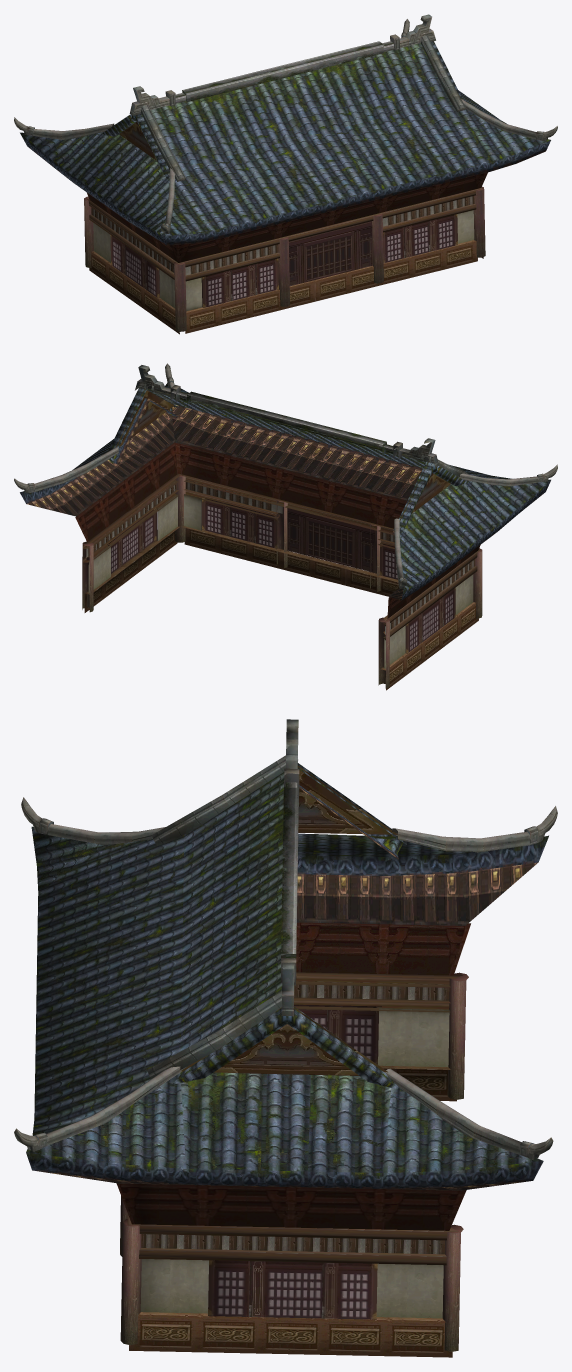
The model's file is fangwu_02.FBX.
3 renders of one model, top to bottom at view 1: azimuth 30°, elevation 25°; view 2: azimuth 150°, elevation 25°; view 3: azimuth 270°, elevation 25°, orthographic. The views are drawn at different scales.
Parts seen in each view (by area): view 1: Object034; view 2: Object034; view 3: Object034.
Part boxes in pixels (left/top/right/bottom): Object034: left=14, top=14, right=557, bottom=334; Object034: left=14, top=363, right=557, bottom=690; Object034: left=14, top=719, right=557, bottom=1357.
Bounding box in the file's own units: 1597 × 840 × 1076.
Materials: 2 (2 with a texture image).
